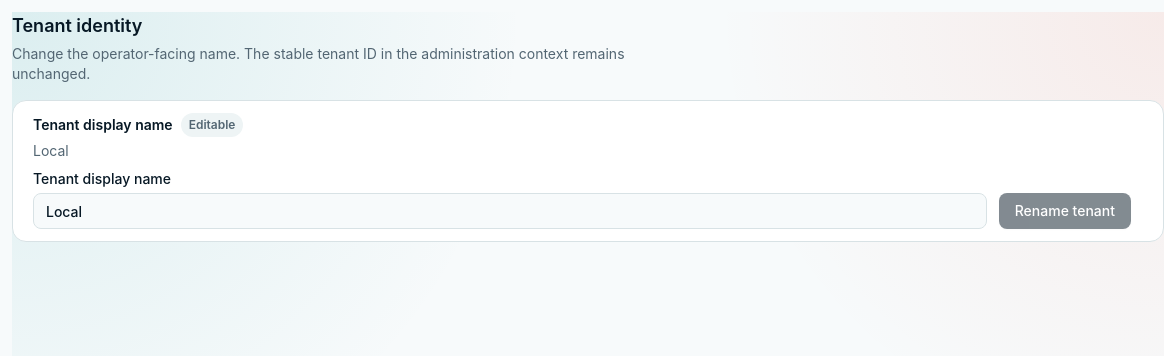
it: TenantSettings › renames the tenant and reports the normalized name
Replace the text in the field labelled "Tenant display name" with "  Renamed tenant  ": (510,211) [33,193,987,229]
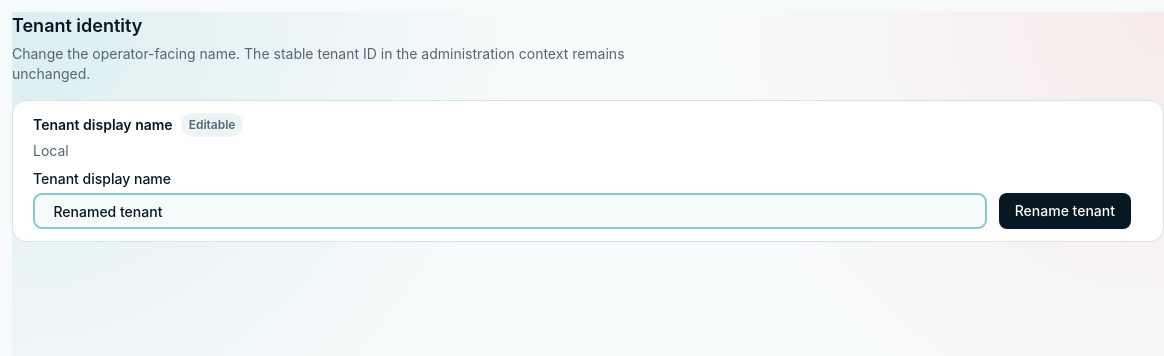
Click the button "Rename tenant": (1065,211) [999,193,1131,229]
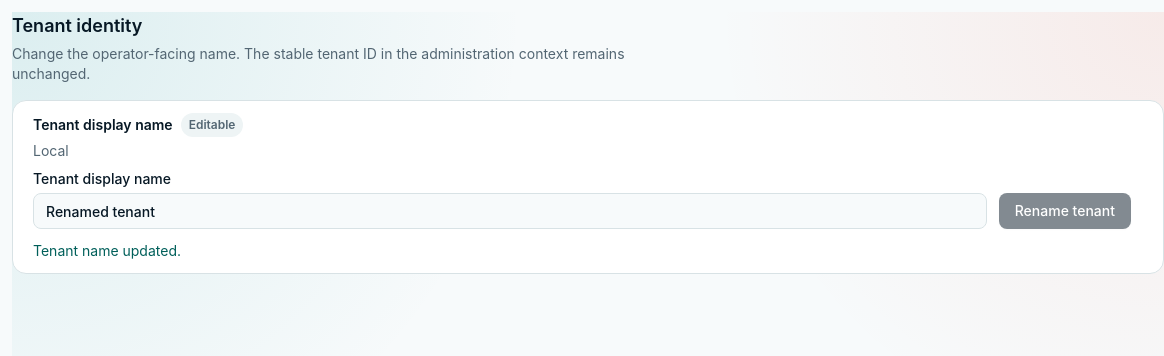
Expected: the button "Rename tenant" is disabled, [999,193,1131,229]
Expected: the message reads "Tenant name updated.", [33,242,181,259]
